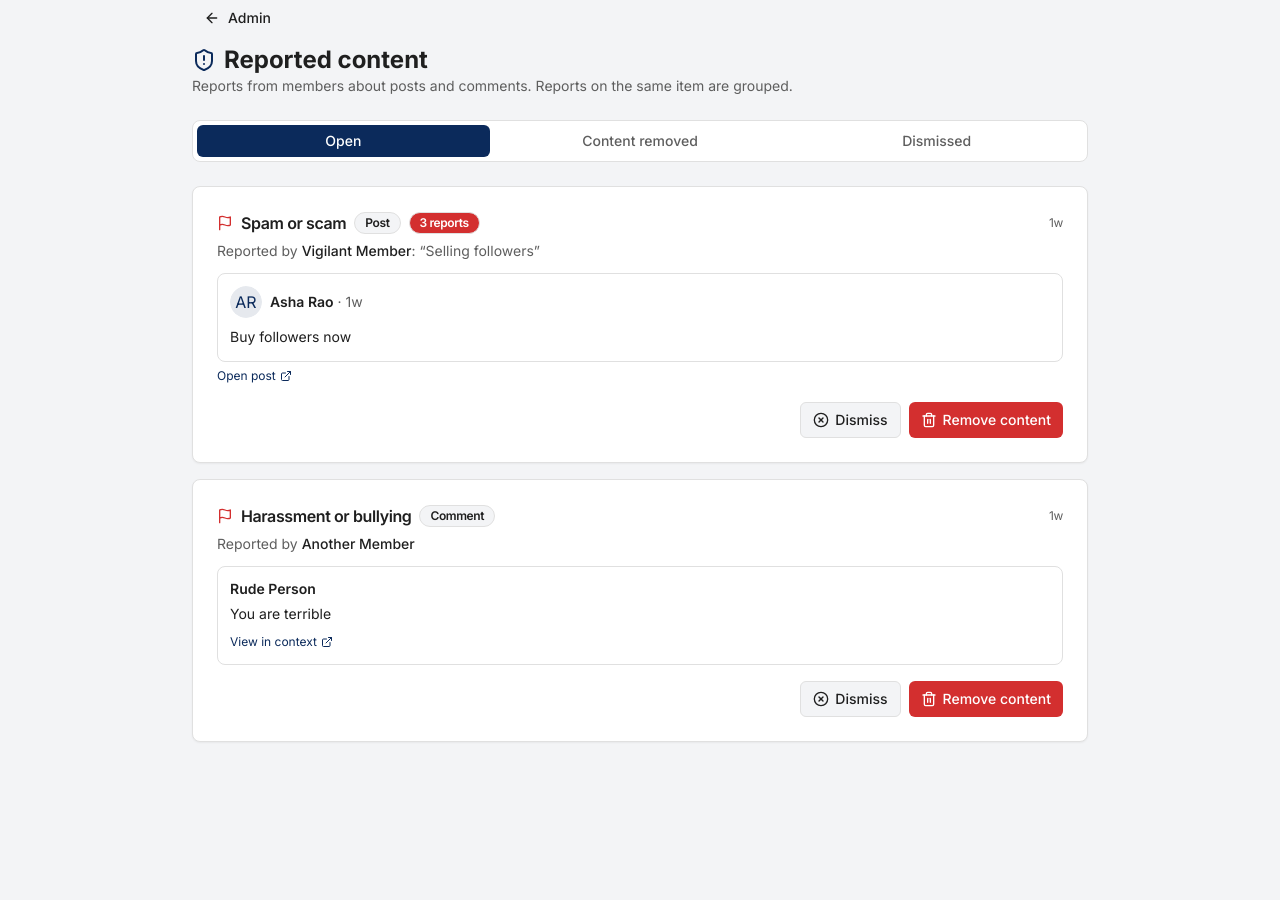
Scenario: Admin reported content › removes content with an audit note and drops the report from the list
Expected: the text "Buy followers now" is shown, x1=230 y1=328 x2=351 y2=345
Click the 1st button "Remove content": [986, 420] box x1=908 y1=402 x2=1063 y2=438
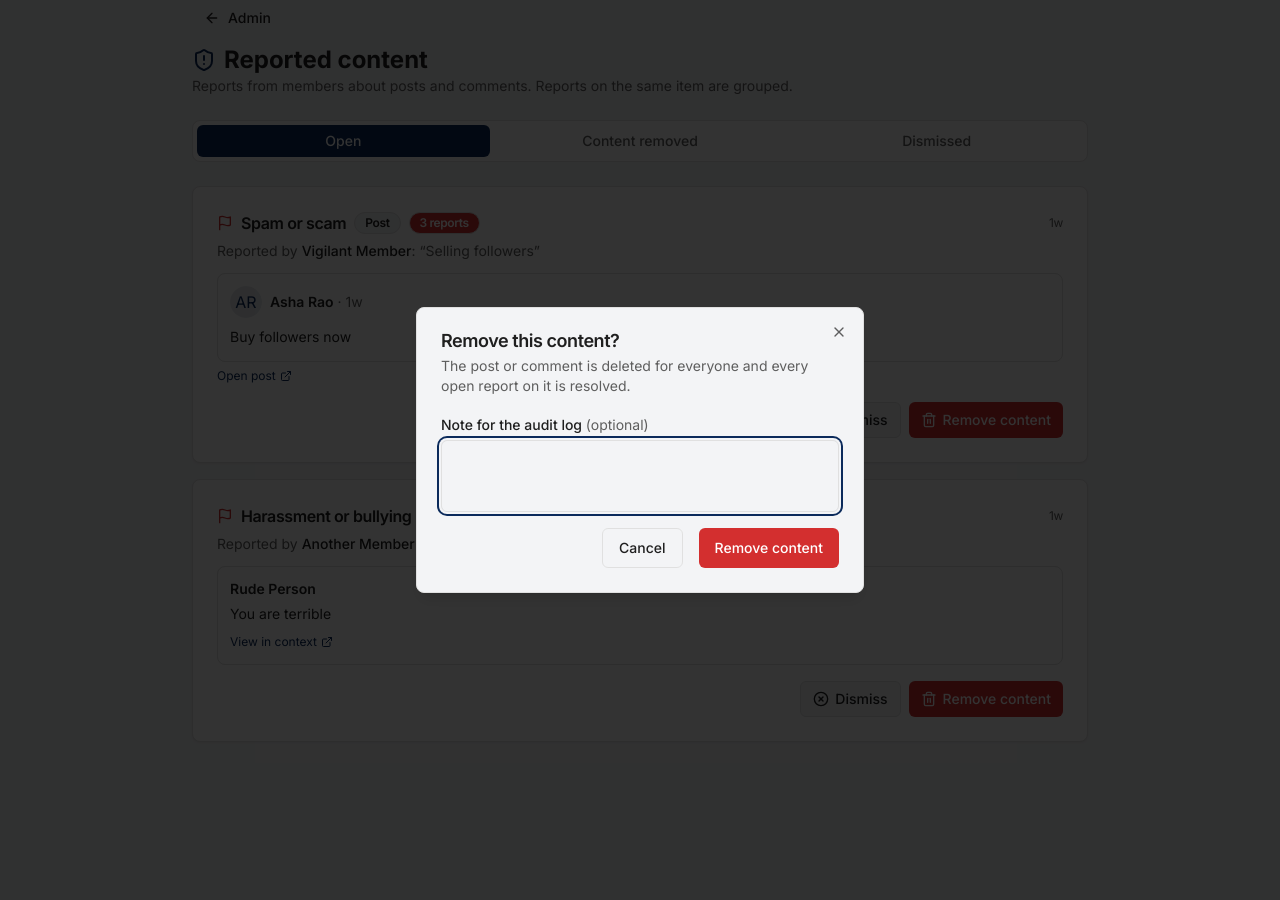
In the text box labelled "Note for the audit log (optional)": [640, 476] box x1=441 y1=440 x2=839 y2=512, type "Spam ring"
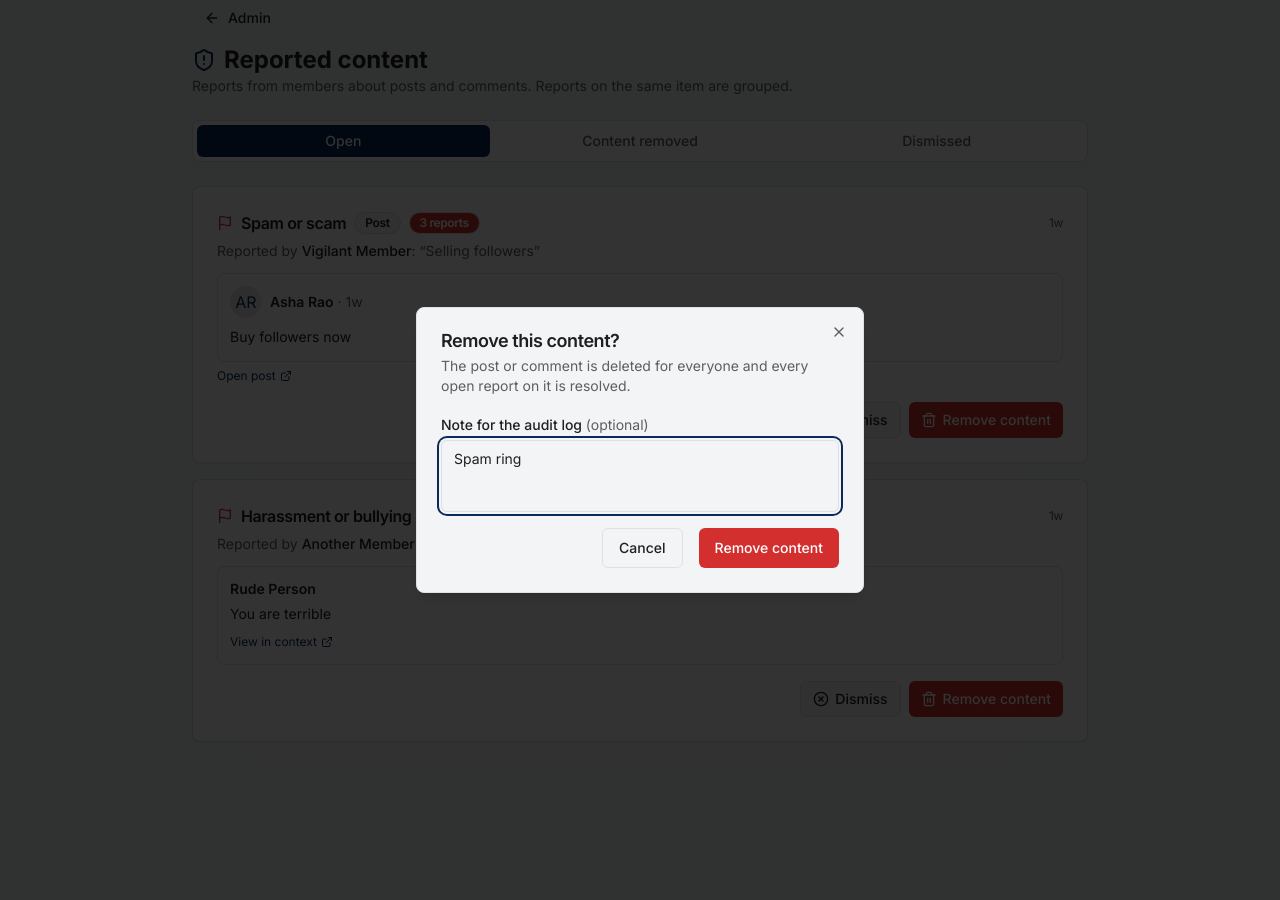
Click the button "Remove content": [769, 548] box x1=698 y1=528 x2=839 y2=568
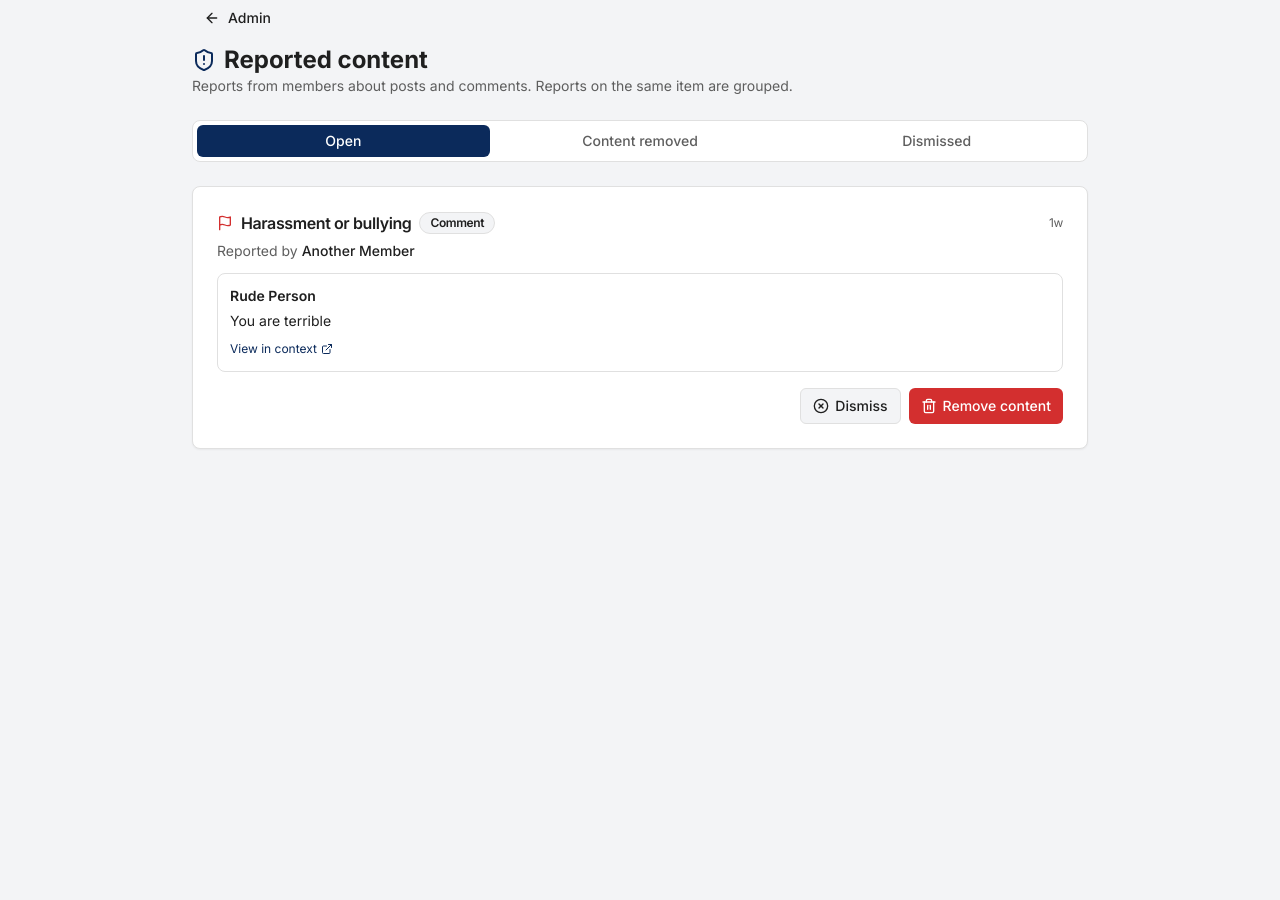
Expected: the text "Buy followers now" is gone
